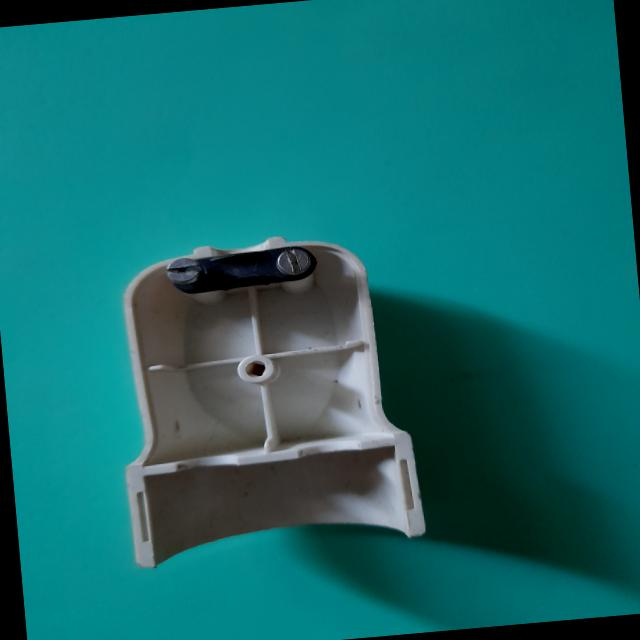Slotted: (276, 246, 312, 276), (165, 256, 202, 284)
